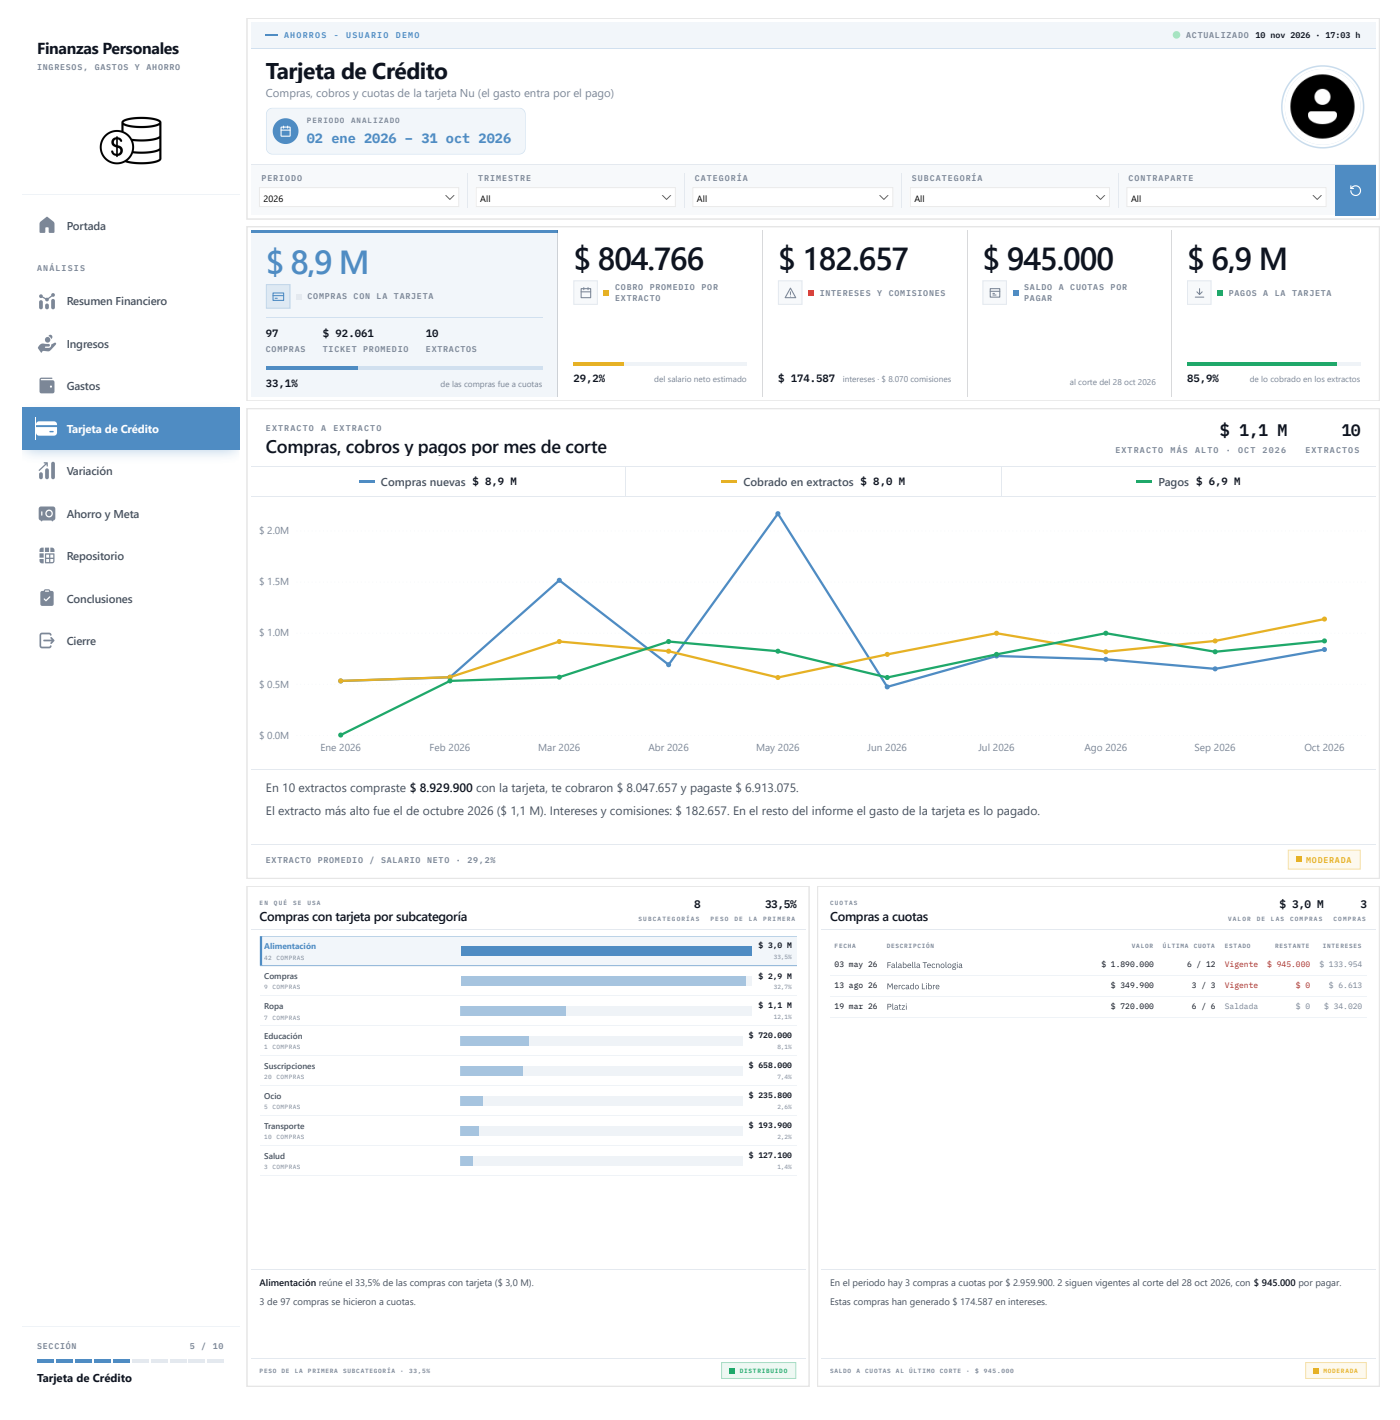

The dashboard page shown, as its layout file describes it:
{"tool":"powerbi","page":{"name":"Tarjeta de Crédito","canvas":[1800,1825],"ordinal":4},"visuals":[{"type":"shape","title":"Contenedor","box":[302,0,1495,265],"z":1010},{"type":"shape","title":"Contenedor","box":[302,275,1495,230],"z":1020},{"type":"shape","title":"Contenedor","box":[302,515,1495,620],"z":1030},{"type":"shape","title":"Contenedor","box":[302,1145,742,660],"z":1040},{"type":"shape","title":"Contenedor","box":[1055,1145,742,660],"z":1050},{"type":"htmlContent443BE3AD55E043BF878BED274D3A6855","fields":{"content":["Medidas.NAV Rail Vertical HTML"]},"box":[0,0,297,1825],"z":2010},{"type":"htmlContent443BE3AD55E043BF878BED274D3A6855","fields":{"content":["Medidas.NAV Banner Filtros HTML"]},"box":[302,0,1495,265],"z":2020},{"type":"htmlContent443BE3AD55E043BF878BED274D3A6855","fields":{"content":["Medidas.TAR KPI Cards HTML"]},"box":[302,275,1495,230],"z":2030},{"type":"htmlContent443BE3AD55E043BF878BED274D3A6855","fields":{"content":["Medidas.TAR Extractos Marco HTML"]},"box":[302,515,1495,470],"z":2040},{"type":"htmlContent443BE3AD55E043BF878BED274D3A6855","fields":{"content":["Medidas.TAR Extractos Texto HTML"]},"box":[302,985,1495,150],"z":2050},{"type":"htmlContent443BE3AD55E043BF878BED274D3A6855","fields":{"content":["Medidas.TAR Compras por Subcategoria HTML"]},"box":[302,1145,742,660],"z":2060},{"type":"htmlContent443BE3AD55E043BF878BED274D3A6855","fields":{"content":["Medidas.TAR Compras a Cuotas HTML"]},"box":[1055,1145,742,660],"z":2070},{"type":"lineChart","fields":{"Category":["Calendario.Mes Año"],"Y":["Medidas.Serie Compras Tarjeta","Medidas.Serie Cobro Extractos","Medidas.Serie Pagos Tarjeta"]},"box":[312,635,1475,345],"z":3010},{"type":"slicer","fields":{"Values":["Calendario.Año","Calendario.Mes"]},"box":[308,212.9,284.2,58.6],"z":5010},{"type":"slicer","fields":{"Values":["Calendario.Trimestre Año"]},"box":[594.2,212.9,284.2,58.6],"z":5020},{"type":"slicer","fields":{"Values":["Categorias.Categoría"]},"box":[880.4,212.9,284.2,58.6],"z":5030},{"type":"slicer","fields":{"Values":["Categorias.Subcategoría"]},"box":[1166.6,212.9,284.2,58.6],"z":5040},{"type":"slicer","fields":{"Values":["Movimientos.Contraparte"]},"box":[1452.8,212.9,284.2,58.6],"z":5050},{"type":"shape","box":[0,0,297,245],"z":6010},{"type":"shape","box":[0,301,297,44],"z":6020},{"type":"shape","box":[0,849,297,976],"z":6030},{"type":"shape","box":[285,0,12,1825],"z":6040},{"type":"shape","box":[302,0,1495,193],"z":6050},{"type":"actionButton","box":[1738,193,54,67],"z":7010},{"type":"actionButton","box":[0,245,285,56],"z":7020},{"type":"actionButton","box":[0,345,285,56],"z":7030},{"type":"actionButton","box":[0,401,285,56],"z":7040},{"type":"actionButton","box":[0,457,285,56],"z":7050},{"type":"actionButton","box":[0,513,285,56],"z":7060},{"type":"actionButton","box":[0,569,285,56],"z":7070},{"type":"actionButton","box":[0,625,285,56],"z":7070},{"type":"actionButton","box":[0,681,285,56],"z":7080},{"type":"actionButton","box":[0,737,285,56],"z":7090},{"type":"actionButton","box":[0,793,285,56],"z":7100}]}

Visuals, with their boxes in screenshot pixels (x1, y1, x2, y2), scaled from the page's 1800x1825 canvas onto the 1400x1420 screenshot:
"Contenedor" shape: x1=235 y1=0 x2=1398 y2=206
"Contenedor" shape: x1=235 y1=214 x2=1398 y2=393
"Contenedor" shape: x1=235 y1=401 x2=1398 y2=883
"Contenedor" shape: x1=235 y1=891 x2=812 y2=1404
"Contenedor" shape: x1=821 y1=891 x2=1398 y2=1404
htmlContent443BE3AD55E043BF878BED274D3A6855 - Medidas.NAV Rail Vertical HTML: x1=0 y1=0 x2=231 y2=1419
htmlContent443BE3AD55E043BF878BED274D3A6855 - Medidas.NAV Banner Filtros HTML: x1=235 y1=0 x2=1398 y2=206
htmlContent443BE3AD55E043BF878BED274D3A6855 - Medidas.TAR KPI Cards HTML: x1=235 y1=214 x2=1398 y2=393
htmlContent443BE3AD55E043BF878BED274D3A6855 - Medidas.TAR Extractos Marco HTML: x1=235 y1=401 x2=1398 y2=766
htmlContent443BE3AD55E043BF878BED274D3A6855 - Medidas.TAR Extractos Texto HTML: x1=235 y1=766 x2=1398 y2=883
htmlContent443BE3AD55E043BF878BED274D3A6855 - Medidas.TAR Compras por Subcategoria HTML: x1=235 y1=891 x2=812 y2=1404
htmlContent443BE3AD55E043BF878BED274D3A6855 - Medidas.TAR Compras a Cuotas HTML: x1=821 y1=891 x2=1398 y2=1404
lineChart - Calendario.Mes Año x Medidas.Serie Compras Tarjeta: x1=243 y1=494 x2=1390 y2=763
slicer - Calendario.Año x Calendario.Mes: x1=240 y1=166 x2=461 y2=211
slicer - Calendario.Trimestre Año: x1=462 y1=166 x2=683 y2=211
slicer - Categorias.Categoría: x1=685 y1=166 x2=906 y2=211
slicer - Categorias.Subcategoría: x1=907 y1=166 x2=1128 y2=211
slicer - Movimientos.Contraparte: x1=1130 y1=166 x2=1351 y2=211
shape: x1=0 y1=0 x2=231 y2=191
shape: x1=0 y1=234 x2=231 y2=268
shape: x1=0 y1=661 x2=231 y2=1419
shape: x1=222 y1=0 x2=231 y2=1419
shape: x1=235 y1=0 x2=1398 y2=150
actionButton: x1=1352 y1=150 x2=1394 y2=202
actionButton: x1=0 y1=191 x2=222 y2=234
actionButton: x1=0 y1=268 x2=222 y2=312
actionButton: x1=0 y1=312 x2=222 y2=356
actionButton: x1=0 y1=356 x2=222 y2=399
actionButton: x1=0 y1=399 x2=222 y2=443
actionButton: x1=0 y1=443 x2=222 y2=486
actionButton: x1=0 y1=486 x2=222 y2=530
actionButton: x1=0 y1=530 x2=222 y2=573
actionButton: x1=0 y1=573 x2=222 y2=617
actionButton: x1=0 y1=617 x2=222 y2=661
